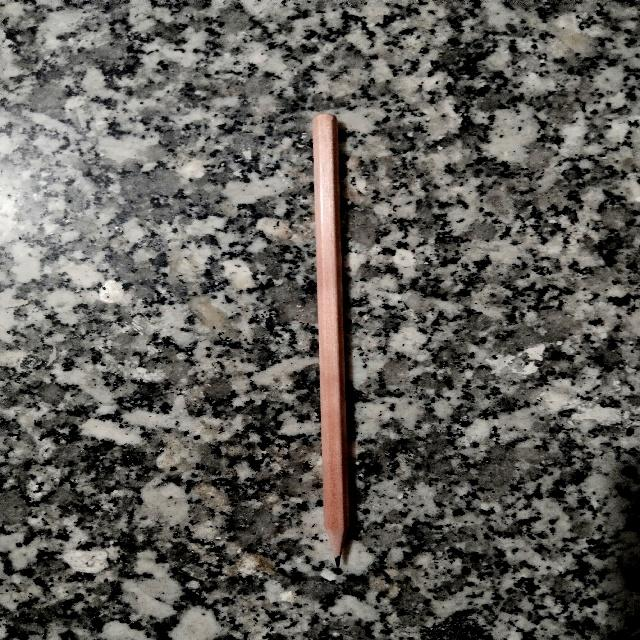pencil: (313, 114, 348, 564)
